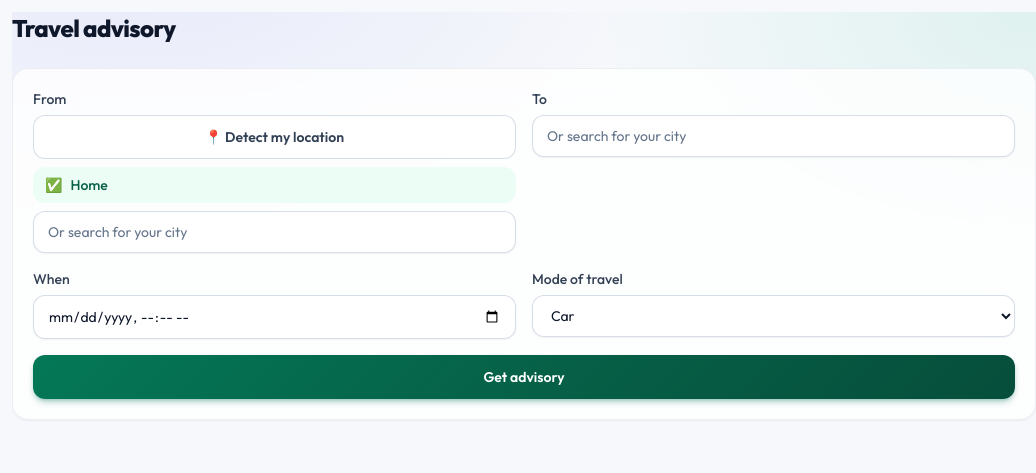
Test: Travel advisory flow › blocks submit and shows a validation error when the destination is missing
This screenshot has width=1036, height=473.
Click the button "Get advisory". click: coordinates (524, 377)
box: [33, 355, 1015, 399]
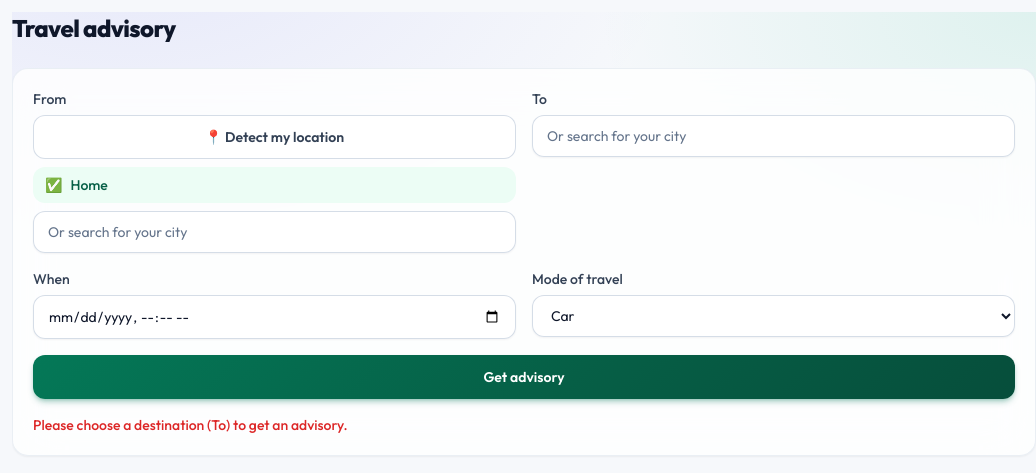
Check: the text "Please choose a destination (To) to get an advisory." is shown, box [33, 416, 348, 434]
